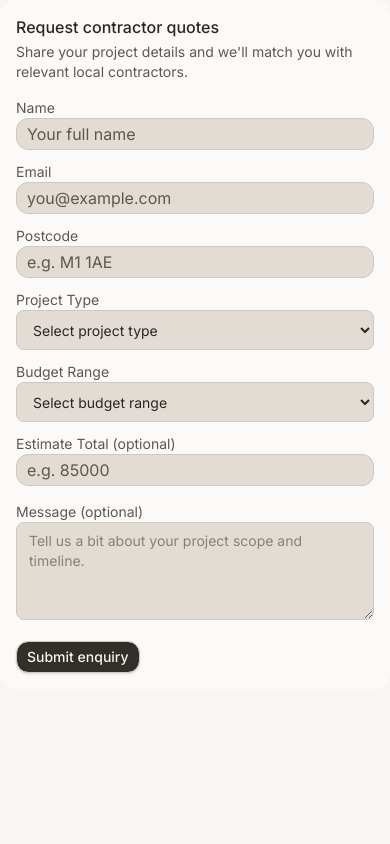
it: ContractorEnquiryForm › surfaces API errors to the user
Type "Alex Builder" into the field labelled "Name".
click(195, 134); type("Alex Builder")  # box [16,118,374,150]
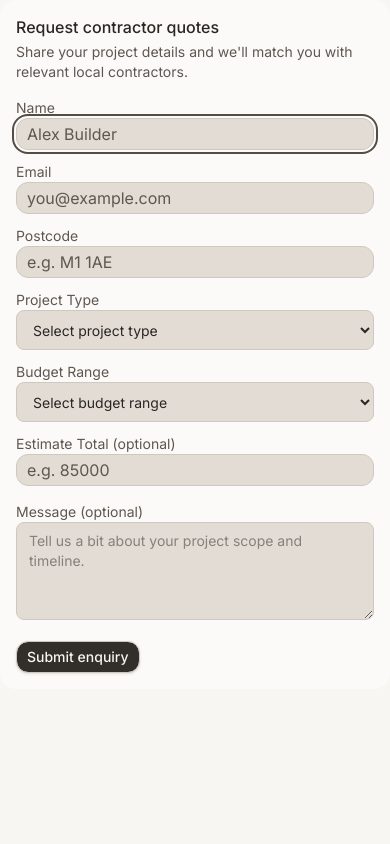
Type "alex@example.com" into the field labelled "Email".
click(195, 198); type("alex@example.com")  # box [16,182,374,214]
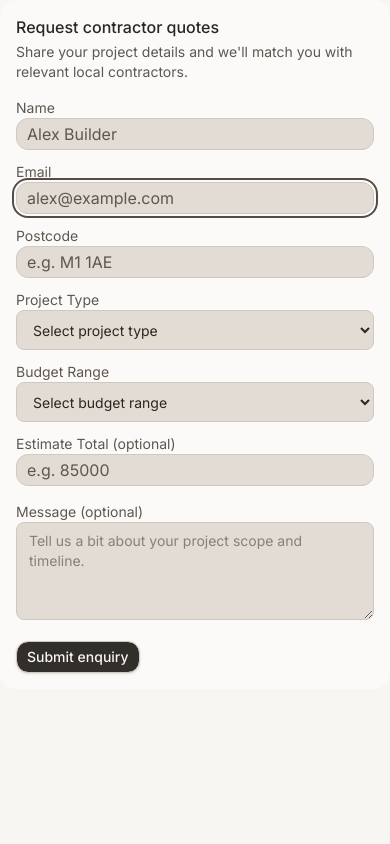
Type "SW1A 1AA" into the field labelled "Postcode".
click(195, 262); type("SW1A 1AA")  # box [16,246,374,278]
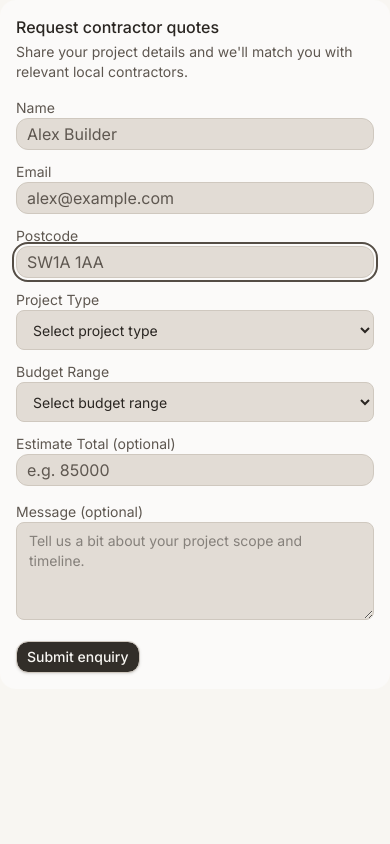
Select "Extension" in the dropdown labelled "Project Type" at (195, 330), box [16,310,374,350]
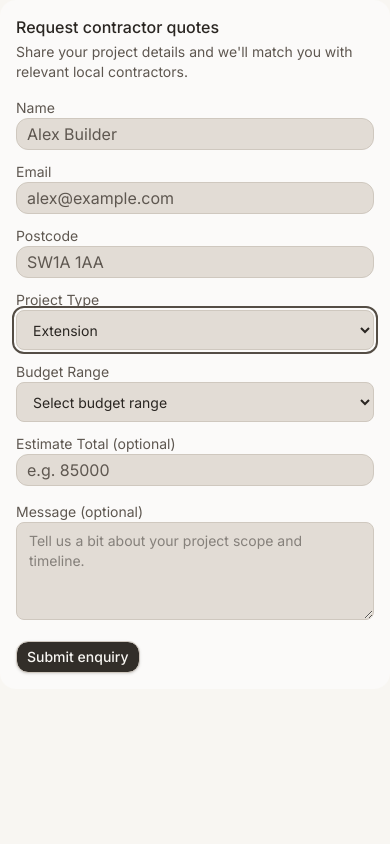
Select "£50,000 - £100,000" in the dropdown labelled "Budget Range" at (195, 402), box [16,382,374,422]
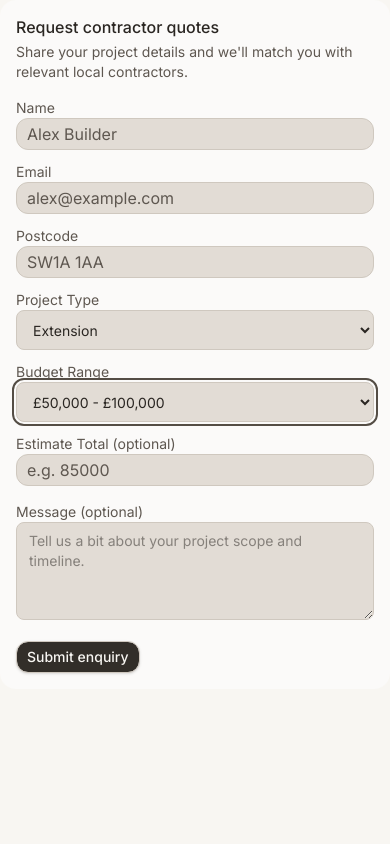
Click the button "Submit enquiry".
click(78, 657)  # box [16,641,140,673]
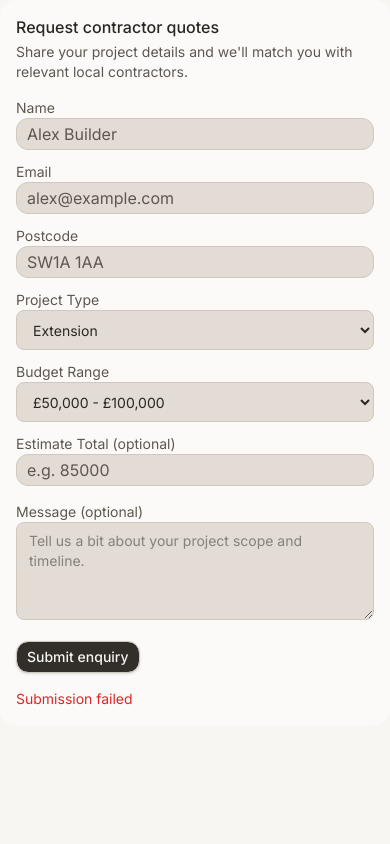
Check: the text "Submission failed" is shown, box [16,690,133,707]
